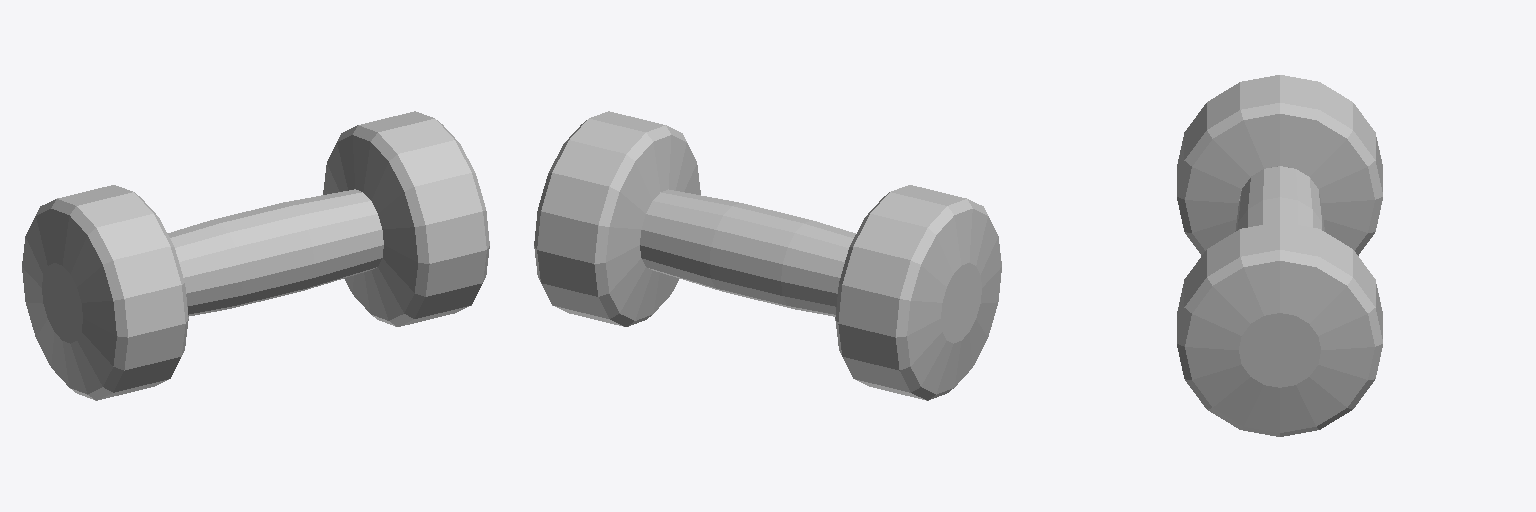
File: mancuerna.obj
The picture shows the model from 3 angles: view 1: azimuth 30°, elevation 25°; view 2: azimuth 150°, elevation 25°; view 3: azimuth 270°, elevation 25°; orthographic projection.
Visible parts, largest first — view 1: mancuerna2:Cylinder001polySurface4, mancuerna2:Cylinder001; view 2: mancuerna2:Cylinder001polySurface4, mancuerna2:Cylinder001; view 3: mancuerna2:Cylinder001polySurface4, mancuerna2:Cylinder001.
Part boxes in pixels (x1,y1,x2,y2): mancuerna2:Cylinder001polySurface4: (22,111,489,400); mancuerna2:Cylinder001: (167,189,383,316); mancuerna2:Cylinder001polySurface4: (534,111,1001,400); mancuerna2:Cylinder001: (640,189,855,316); mancuerna2:Cylinder001polySurface4: (1177,75,1382,436); mancuerna2:Cylinder001: (1235,166,1324,231).
Bounding box in the file's own units: 1.36 × 0.6281 × 0.6281.